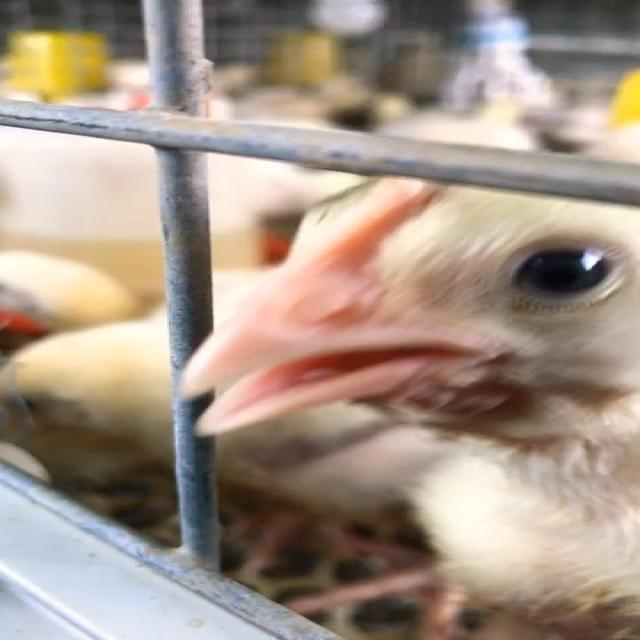Breathing: (181, 150, 640, 640)
